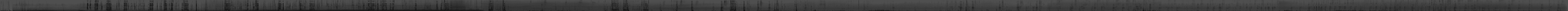Moan: (1454, 0, 1457, 11)
